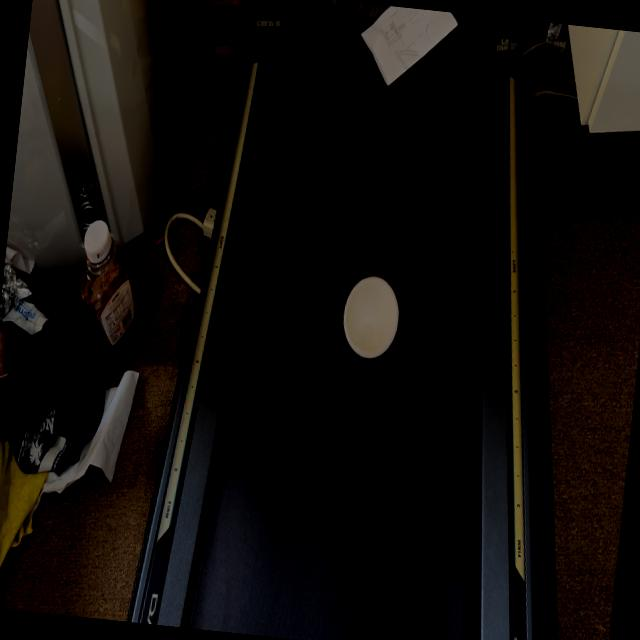Recycle: (355, 3, 465, 105)
Trash: (342, 274, 413, 368)
